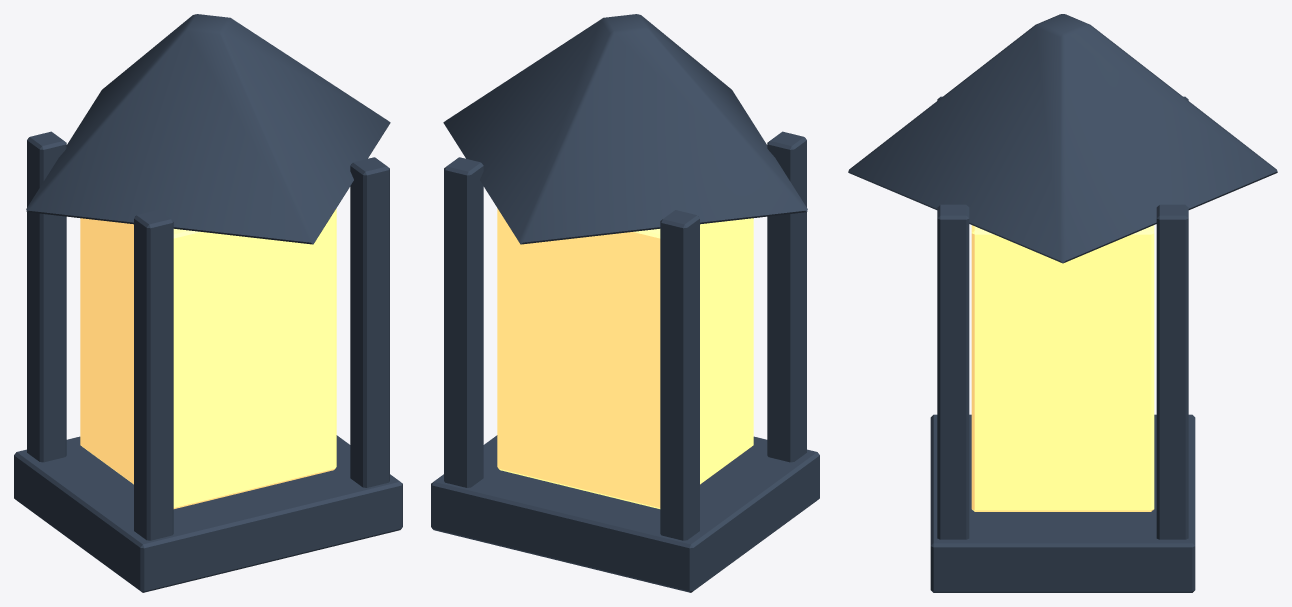
Rendered from lantern_hanging_01.glb.
3 views of the same model, side by side, from view 1: azimuth 30°, elevation 25°; view 2: azimuth 150°, elevation 25°; view 3: azimuth 270°, elevation 25° (orthographic). The views are drawn at different scales.
Parts seen in each view (by area): view 1: lantern_hanging_01; view 2: lantern_hanging_01; view 3: lantern_hanging_01.
Part boxes in pixels (bbox=[...]): lantern_hanging_01: bbox=[14, 14, 402, 592]; lantern_hanging_01: bbox=[431, 14, 819, 592]; lantern_hanging_01: bbox=[848, 14, 1277, 592].
Bounding box in the file's own units: 0.5647 × 0.732 × 0.5647.
